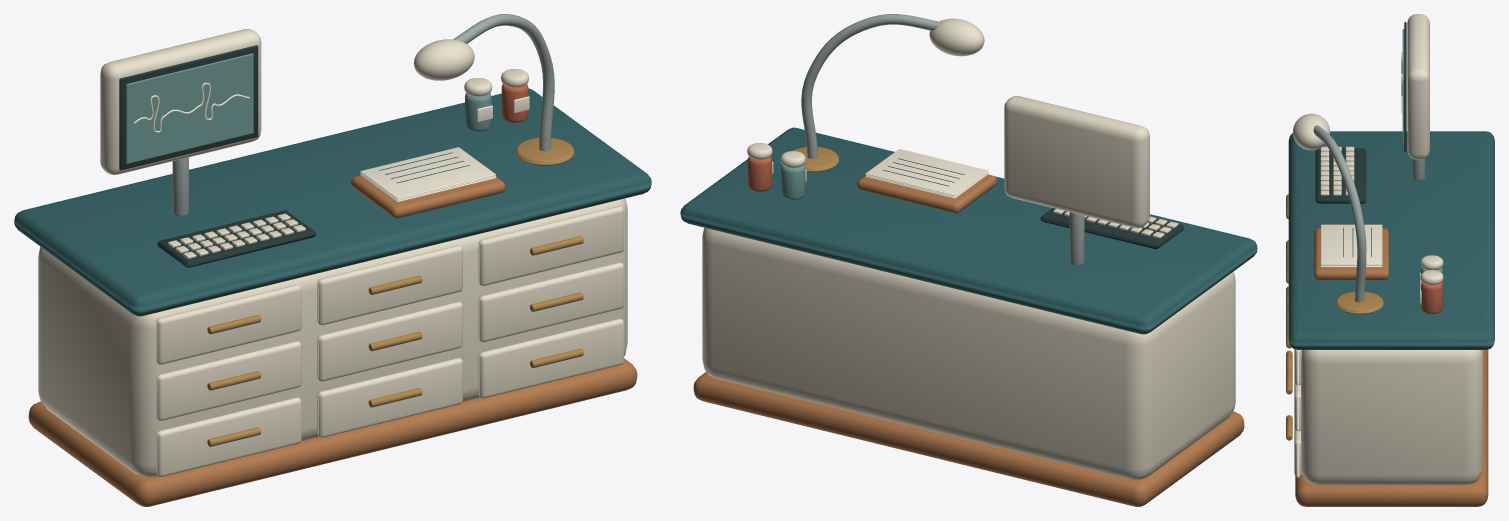
Rendered from consult-workstation.glb.
The picture shows the model from 3 angles, left to right: view 1: azimuth 30°, elevation 25°; view 2: azimuth 150°, elevation 25°; view 3: azimuth 270°, elevation 25°; orthographic projection. The views are drawn at different scales.
Visible parts, largest first — view 1: consult-workstation; view 2: consult-workstation; view 3: consult-workstation.
Part boxes in pixels (x1,y1,x2,y2): consult-workstation: [14, 14, 651, 506]; consult-workstation: [680, 14, 1257, 506]; consult-workstation: [1286, 14, 1494, 506].
Bounding box in the file's own units: 1.84 × 1.32 × 0.78.
